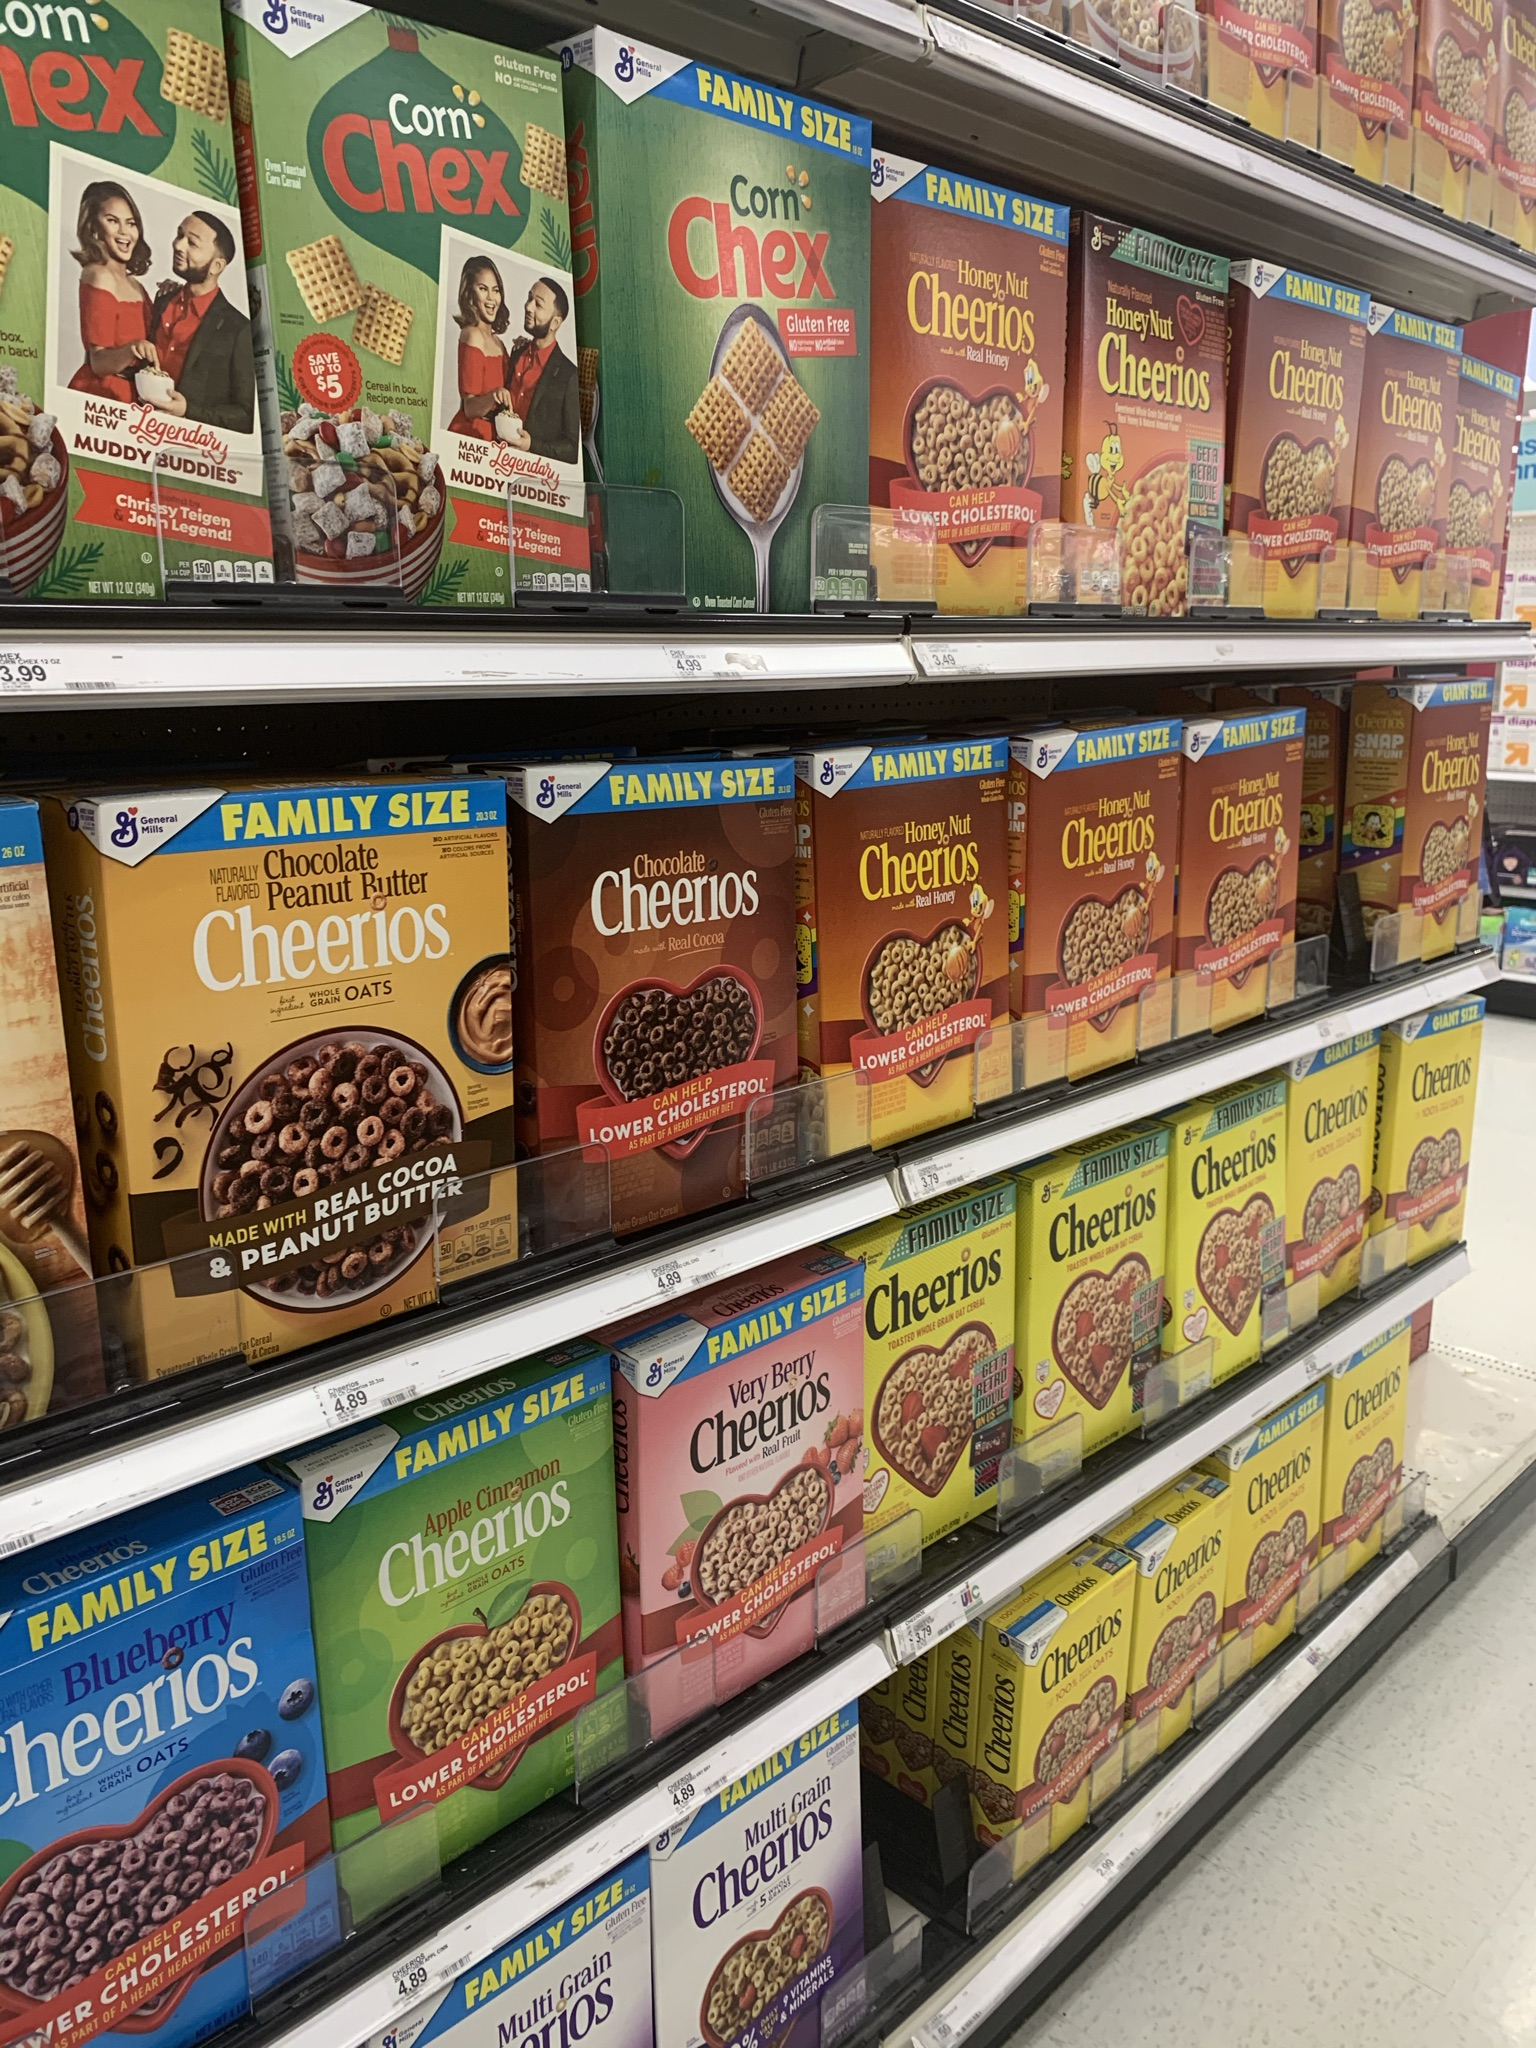cereal: (82, 798, 516, 1343), (239, 3, 595, 598), (318, 1379, 629, 1940), (594, 27, 879, 627), (2, 1514, 315, 2048), (502, 755, 805, 1255), (2, 2, 248, 600), (615, 1314, 884, 1708), (876, 152, 1058, 642), (803, 743, 1013, 1164), (837, 1230, 1034, 1592), (1071, 205, 1238, 626), (653, 1725, 857, 2048), (1010, 727, 1186, 1085), (1171, 710, 1325, 1051), (1234, 255, 1350, 642), (1031, 1156, 1171, 1472), (997, 1606, 1139, 1913), (1110, 1498, 1234, 1788), (1386, 674, 1501, 956), (1167, 1108, 1286, 1367), (1363, 300, 1450, 640), (1217, 1421, 1331, 1679), (1396, 998, 1496, 1272), (1288, 1061, 1383, 1332), (1321, 1356, 1421, 1606), (1450, 348, 1534, 621)
